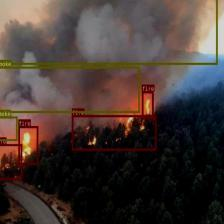fire: (72, 115, 156, 150), (0, 144, 22, 180), (18, 126, 38, 164), (142, 91, 154, 119)
smoke: (0, 0, 217, 65), (0, 66, 139, 112), (0, 116, 17, 140)
